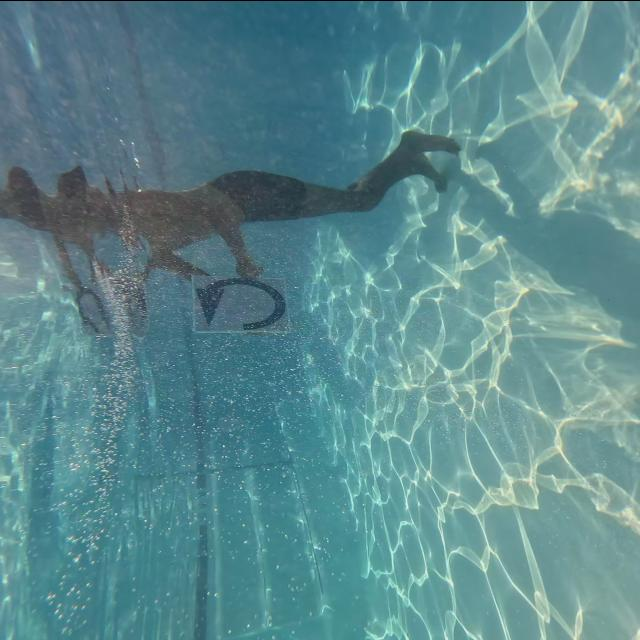blue_side: (182, 274, 294, 332)
